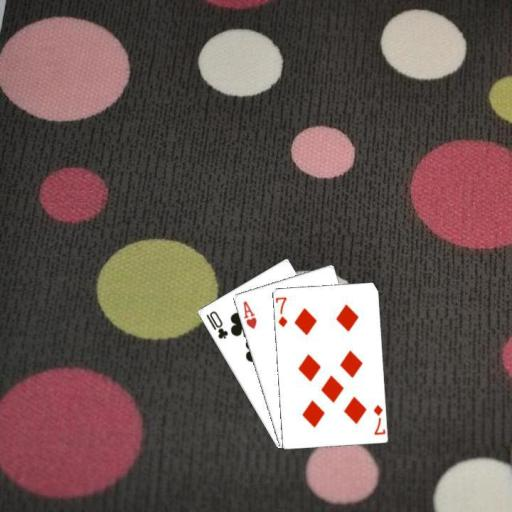10C: (203, 308, 229, 341)
7D: (274, 294, 289, 329), (370, 401, 385, 436)
AH: (240, 297, 258, 331)
